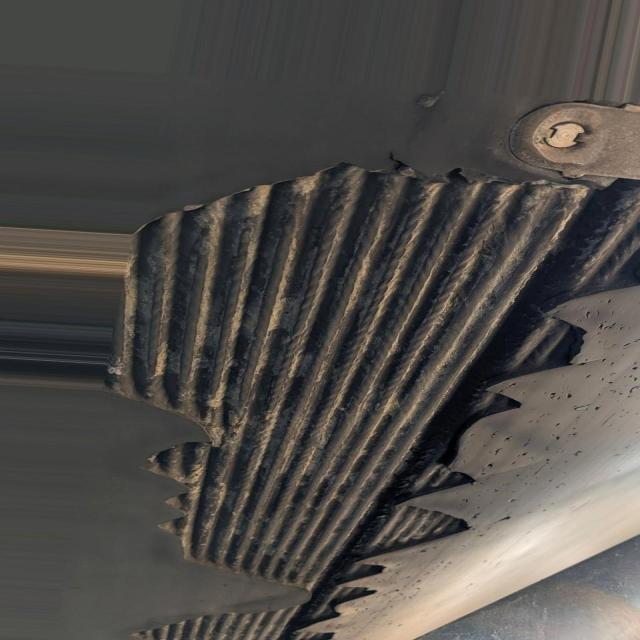Tear: (105, 149, 640, 640)
